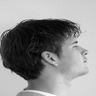ear: (38, 45, 62, 71)
